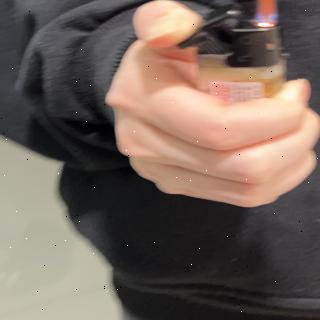fire: (253, 0, 280, 28)
